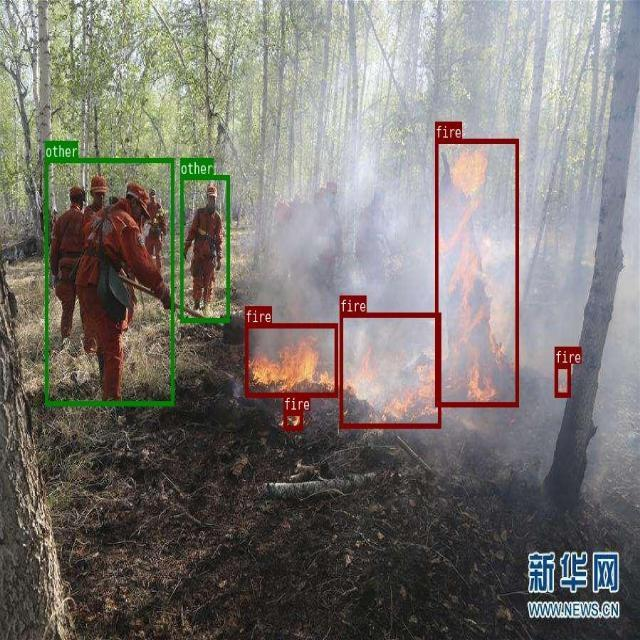fire: (434, 138, 518, 406), (339, 312, 440, 427), (244, 323, 337, 397), (554, 364, 570, 397), (283, 410, 303, 429)
